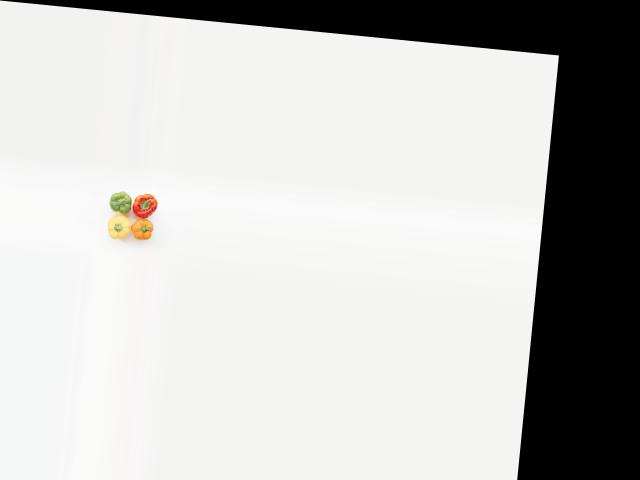bell_pepper: (101, 188, 138, 216)
